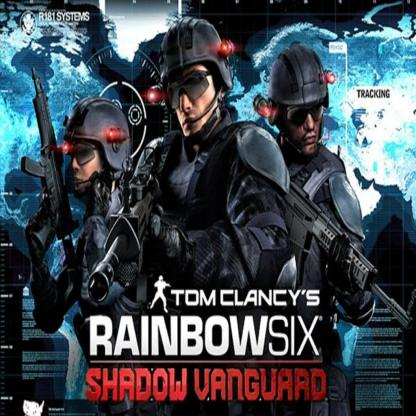face: (171, 68, 211, 132), (290, 99, 324, 161), (71, 144, 108, 194)
